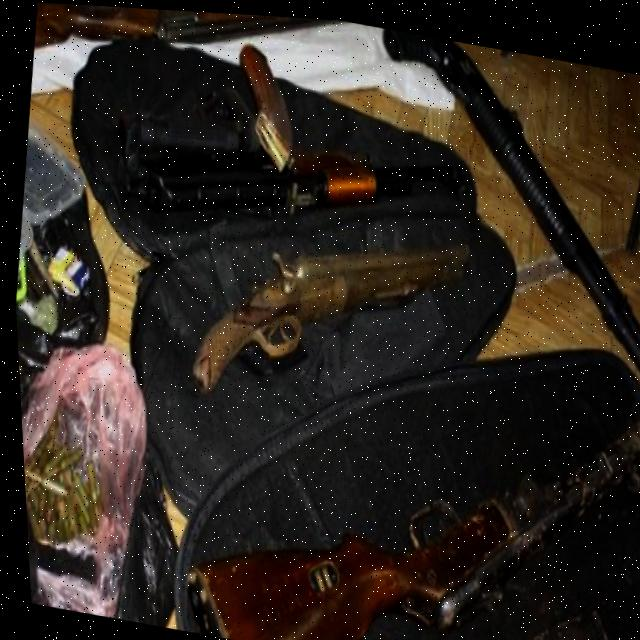firearm: (163, 333, 640, 640), (340, 21, 640, 417), (179, 193, 477, 431), (102, 85, 474, 272), (30, 1, 456, 126)
